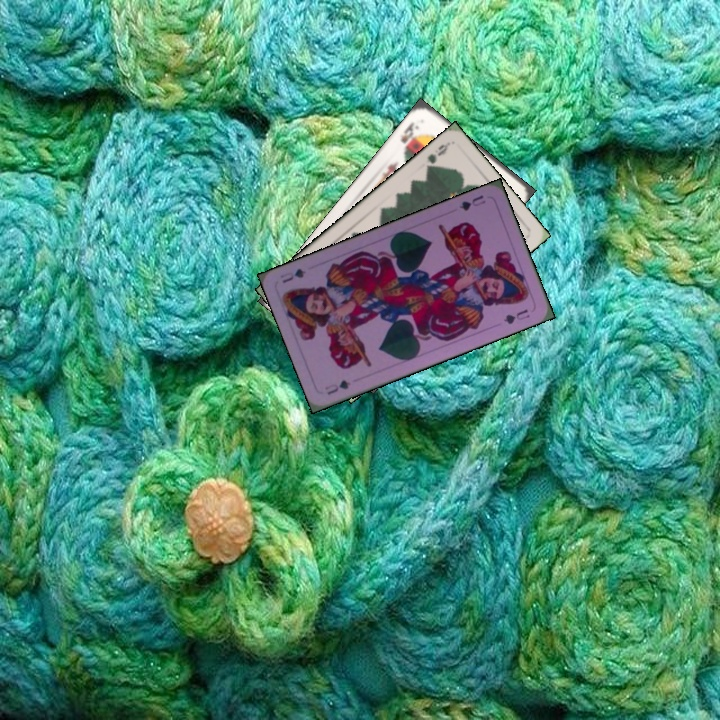G9: (422, 138, 452, 174)
GU: (455, 190, 488, 214), (321, 376, 353, 398)
SK: (396, 118, 422, 154)
